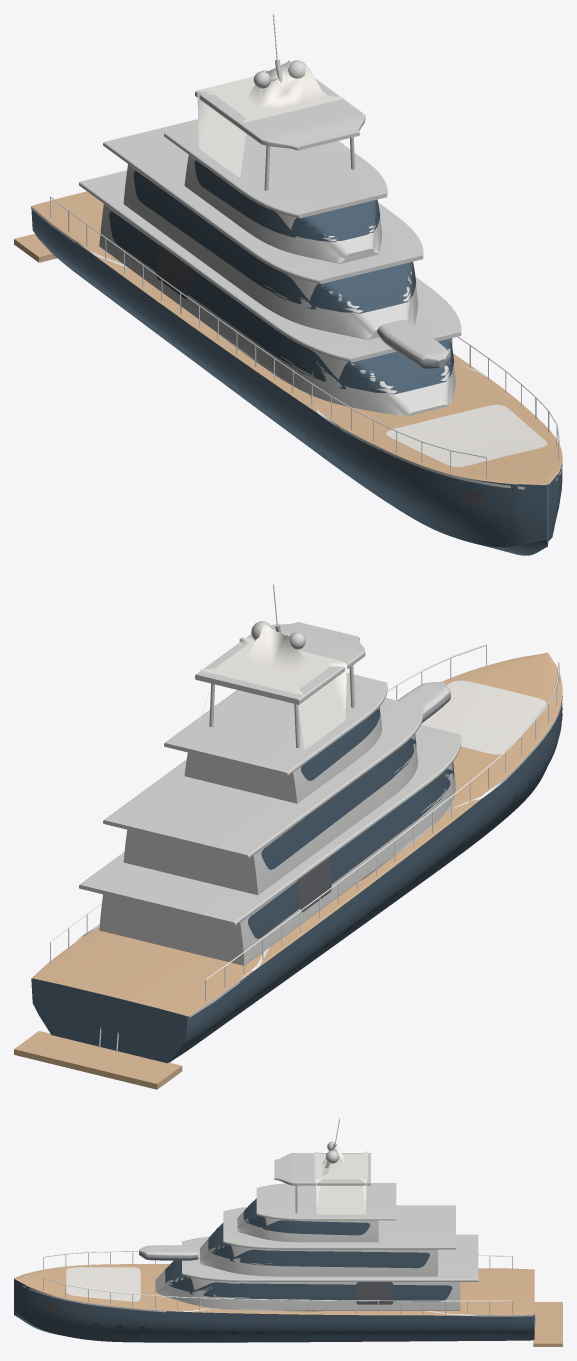
Rendered from boat-yacht.glb.
The picture shows the model from 3 angles, top to bottom: view 1: azimuth 30°, elevation 25°; view 2: azimuth 150°, elevation 25°; view 3: azimuth 270°, elevation 25°; orthographic projection. The views are drawn at different scales.
Parts seen in each view (by area): view 1: boat-yacht; view 2: boat-yacht; view 3: boat-yacht.
Part boxes in pixels (x1=…): boat-yacht: x1=14, y1=14, x2=562, y2=555; boat-yacht: x1=14, y1=584, x2=562, y2=1089; boat-yacht: x1=14, y1=1118, x2=562, y2=1346.
Bounding box in the file's own units: 7.63 × 16.5 × 36.9.
